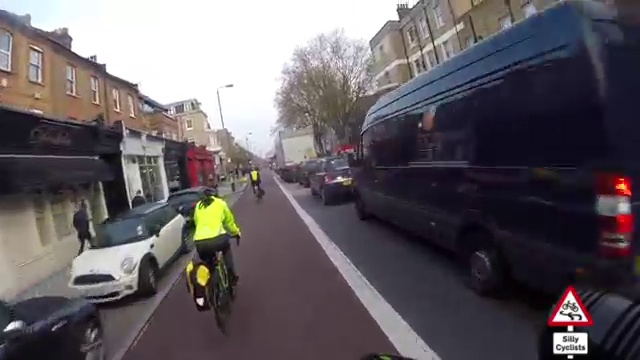cyclist_back: (188, 185, 242, 333), (245, 164, 267, 201)
